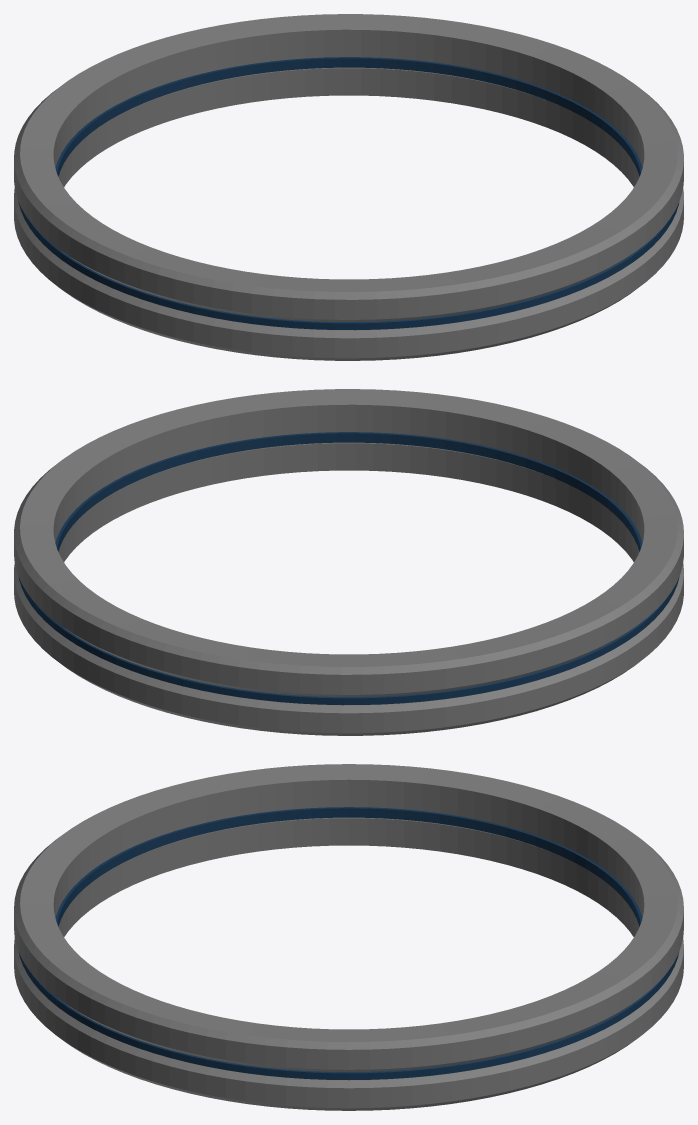
The model's file is black-ring.glb.
The picture shows the model from 3 angles, top to bottom: view 1: azimuth 30°, elevation 25°; view 2: azimuth 150°, elevation 25°; view 3: azimuth 270°, elevation 25°; orthographic projection.
Visible parts, largest first — view 1: RingTop, RingBottom, glow; view 2: RingTop, RingBottom, glow; view 3: RingTop, RingBottom, glow.
Part boxes in pixels (x1,y1,x2,y2): RingTop: (14, 14, 683, 321); RingBottom: (14, 67, 683, 360); glow: (18, 57, 679, 330); RingTop: (14, 389, 683, 696); RingBottom: (14, 442, 683, 735); glow: (18, 432, 679, 705); RingTop: (14, 764, 683, 1071); RingBottom: (14, 817, 683, 1110); glow: (18, 807, 679, 1080).
Bounding box in the file's own units: 0.9489 × 0.1075 × 0.9489.
